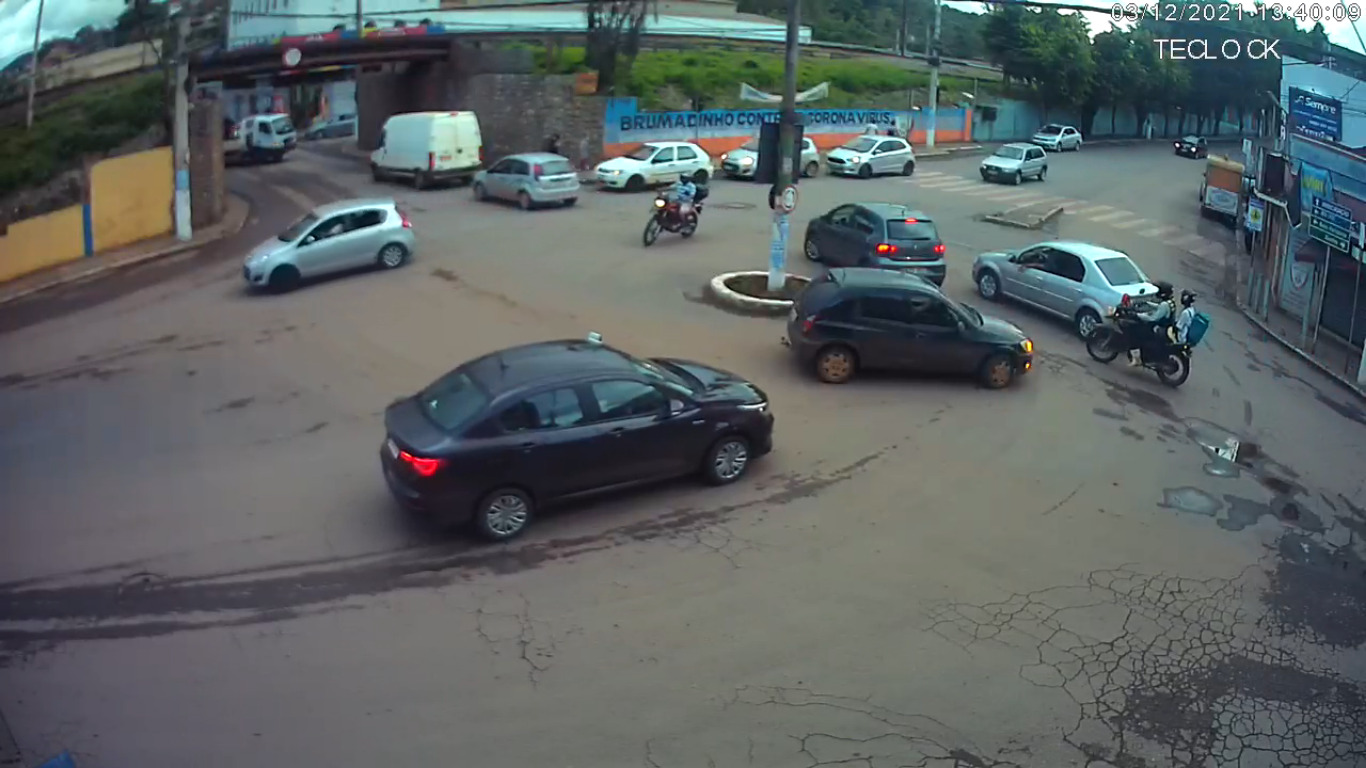car: (381, 339, 773, 539), (782, 267, 1033, 391), (969, 236, 1166, 344), (241, 195, 413, 294), (800, 198, 951, 293), (367, 109, 489, 192), (469, 145, 582, 212), (590, 139, 712, 192), (719, 129, 820, 183), (818, 132, 917, 180), (978, 140, 1048, 186), (1029, 121, 1083, 156), (1171, 131, 1210, 162)
motorcycle: (1082, 278, 1210, 391), (641, 171, 708, 244)
